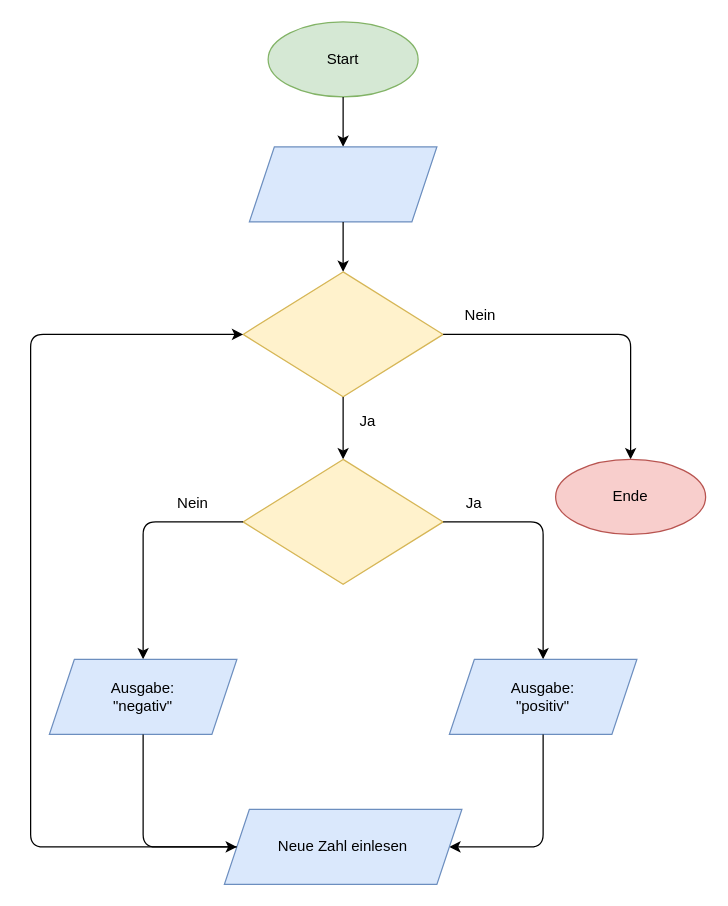
Image size: 728x906. Some labels were removed from this diagram. The box of each missing label's shape, as (x1, y1, x2, y2) in pixels:
Zahl != 0?: (242, 271, 443, 397)
Zahl > 0?: (242, 458, 443, 584)
Zahl einlesen: (248, 146, 437, 222)
